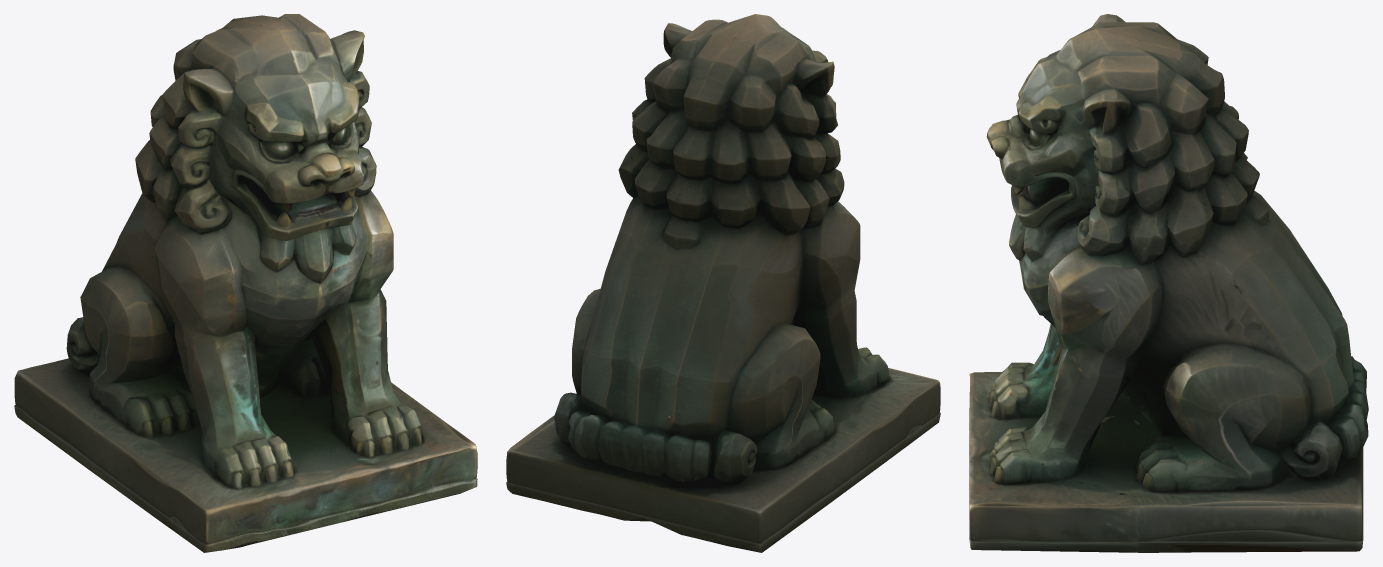
File: lion.glb
The picture shows the model from 3 angles, left to right: view 1: azimuth 30°, elevation 25°; view 2: azimuth 150°, elevation 25°; view 3: azimuth 270°, elevation 25°; orthographic projection. The views are drawn at different scales.
Parts seen in each view (by area): view 1: model; view 2: model; view 3: model.
Part boxes in pixels (left/top/right/bottom): model: left=14, top=14, right=477, bottom=552; model: left=506, top=14, right=940, bottom=552; model: left=969, top=14, right=1368, bottom=552.
Size of the model in its own units: 1.21 by 1.9 by 1.5.
Materials: 1 (1 with a texture image).
